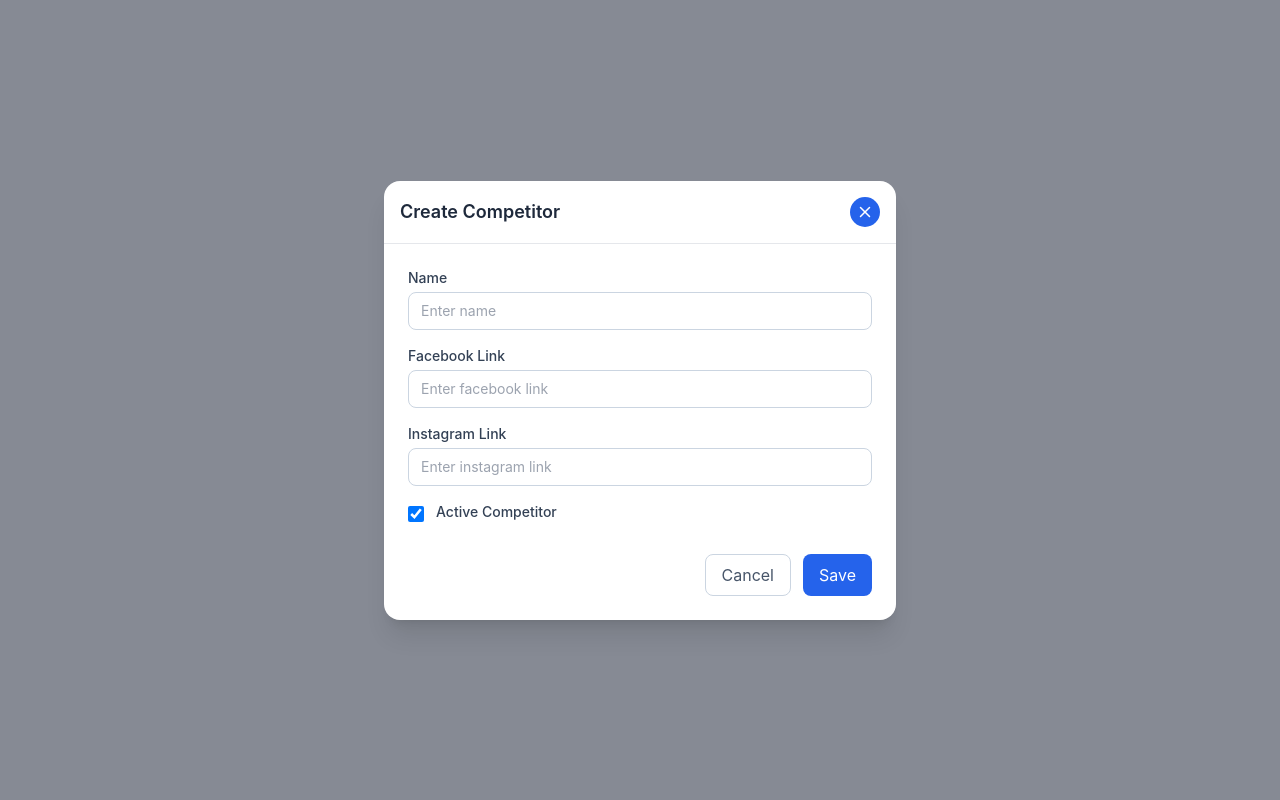
it: CreateCompetitorDlg › shows validation errors when form is submitted with all empty fields
Click the button "Save". click: (838, 574)
box: x1=803 y1=554 x2=872 y2=596
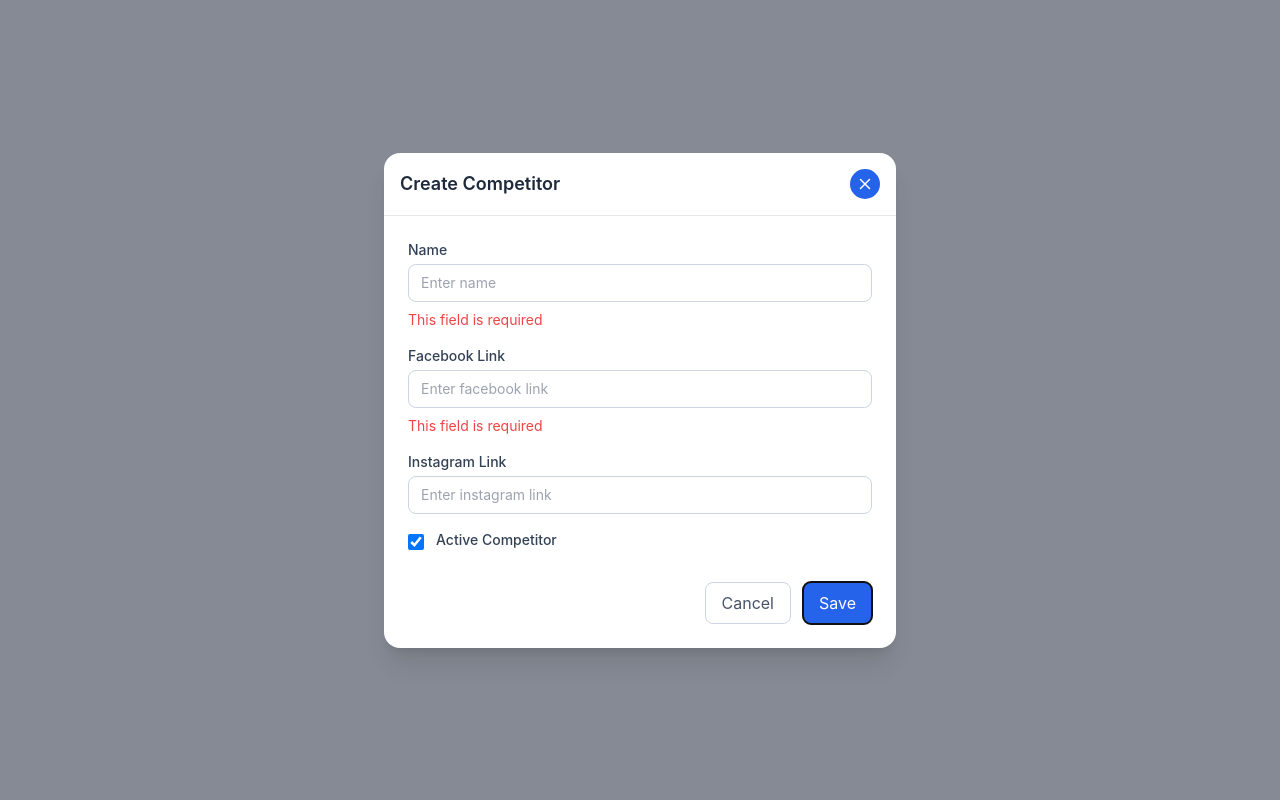
Now the text "This field is required" below "Name" is shown, box x1=408 y1=310 x2=543 y2=328
